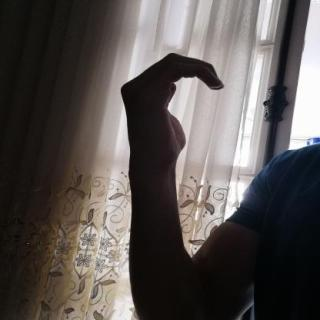HAA: (112, 43, 234, 165)
